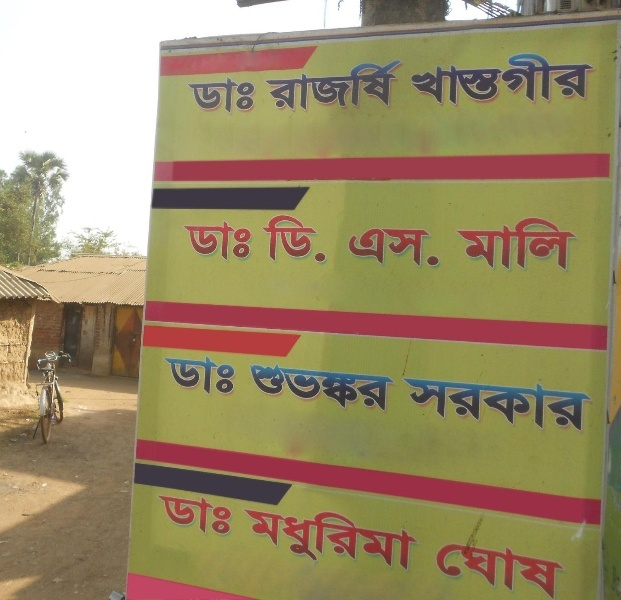text: (257, 505, 272, 572), (273, 505, 288, 572), (289, 505, 304, 572), (305, 505, 320, 572), (321, 505, 336, 572), (337, 505, 352, 572), (353, 505, 368, 572), (369, 505, 384, 572), (385, 505, 400, 572), (401, 505, 416, 572), (401, 372, 416, 432), (417, 372, 432, 432), (433, 372, 448, 432), (449, 372, 464, 432), (465, 372, 480, 432), (481, 372, 496, 432), (497, 372, 512, 432), (513, 372, 528, 432), (529, 372, 544, 432), (545, 372, 560, 432), (561, 372, 576, 432), (577, 372, 592, 432), (273, 55, 288, 113), (289, 55, 304, 113), (305, 55, 320, 113), (321, 55, 336, 113), (337, 55, 352, 113), (353, 55, 368, 113), (369, 55, 384, 113), (385, 55, 400, 113), (465, 217, 480, 273), (481, 217, 496, 273), (497, 217, 512, 273), (513, 217, 528, 273), (529, 217, 544, 273), (545, 217, 560, 273), (561, 217, 576, 273), (449, 543, 464, 599), (465, 543, 480, 599), (481, 543, 496, 599), (497, 543, 512, 599), (513, 543, 528, 599), (529, 543, 544, 599), (545, 543, 560, 599), (417, 52, 432, 107), (433, 52, 448, 107), (449, 52, 464, 107), (465, 52, 480, 107), (481, 52, 496, 107), (497, 52, 512, 107), (513, 52, 528, 107), (529, 52, 544, 107), (545, 52, 560, 107), (561, 52, 576, 107), (577, 52, 592, 107), (244, 505, 256, 572), (257, 363, 272, 413), (273, 363, 288, 413), (289, 363, 304, 413), (305, 363, 320, 413), (321, 363, 336, 413), (337, 363, 352, 413), (353, 363, 368, 413), (369, 363, 384, 413), (273, 214, 288, 263), (289, 214, 304, 263), (305, 214, 320, 263), (353, 225, 368, 269), (369, 225, 384, 269), (385, 225, 400, 269), (401, 225, 416, 269), (417, 225, 432, 269), (177, 353, 192, 397), (193, 353, 208, 397), (209, 353, 224, 397), (161, 492, 176, 536), (177, 492, 192, 536), (193, 492, 208, 536), (209, 492, 224, 536), (193, 220, 208, 263), (209, 220, 224, 263), (225, 220, 240, 263), (437, 543, 448, 599), (241, 77, 257, 114), (193, 77, 208, 114), (209, 77, 224, 114), (225, 77, 240, 114), (164, 353, 176, 397), (241, 220, 253, 263), (385, 363, 395, 413), (225, 353, 236, 397), (264, 55, 272, 113), (456, 217, 464, 273), (263, 214, 272, 263), (561, 543, 568, 599), (184, 220, 192, 263), (321, 214, 328, 263), (433, 225, 440, 269), (225, 492, 232, 536), (250, 363, 256, 413), (411, 52, 416, 107), (593, 52, 596, 107), (188, 77, 192, 114), (417, 505, 419, 572), (349, 225, 352, 269), (401, 55, 403, 113), (158, 492, 160, 536), (577, 217, 578, 273)
